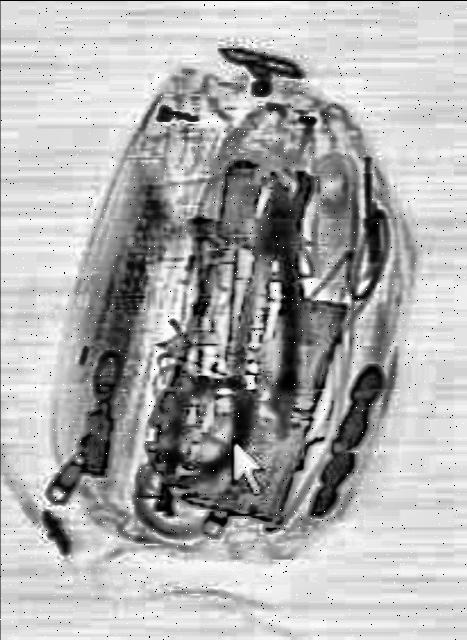Pliers: (226, 175, 312, 405)
